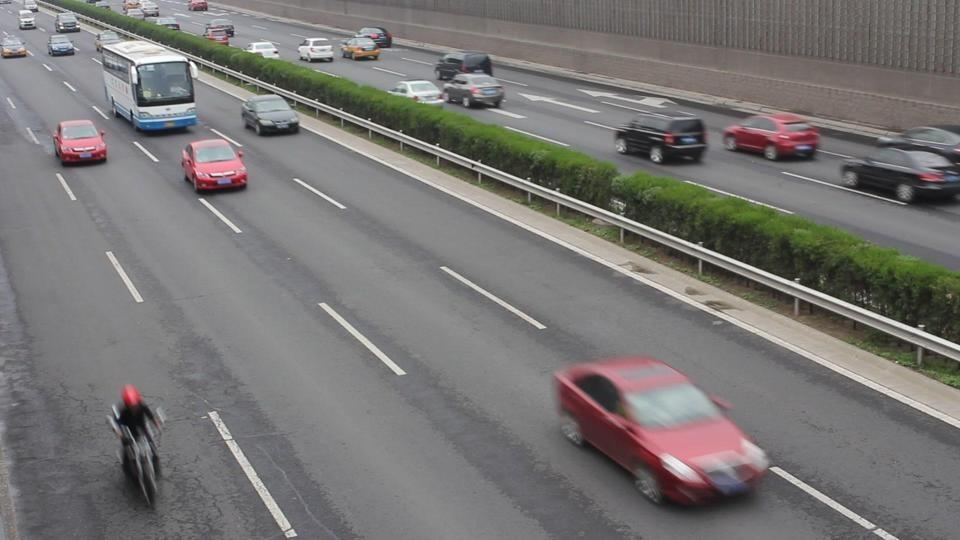car: (552, 354, 768, 507), (840, 146, 960, 204), (613, 107, 709, 165), (721, 111, 821, 162), (179, 135, 248, 192), (885, 126, 960, 163), (52, 119, 109, 165), (240, 95, 301, 137), (442, 72, 507, 109), (432, 50, 493, 82), (386, 80, 447, 106), (339, 34, 385, 61), (297, 37, 335, 63), (0, 30, 30, 59), (355, 26, 393, 48), (204, 20, 235, 43), (48, 36, 78, 56), (18, 8, 37, 30), (187, 0, 208, 12)
